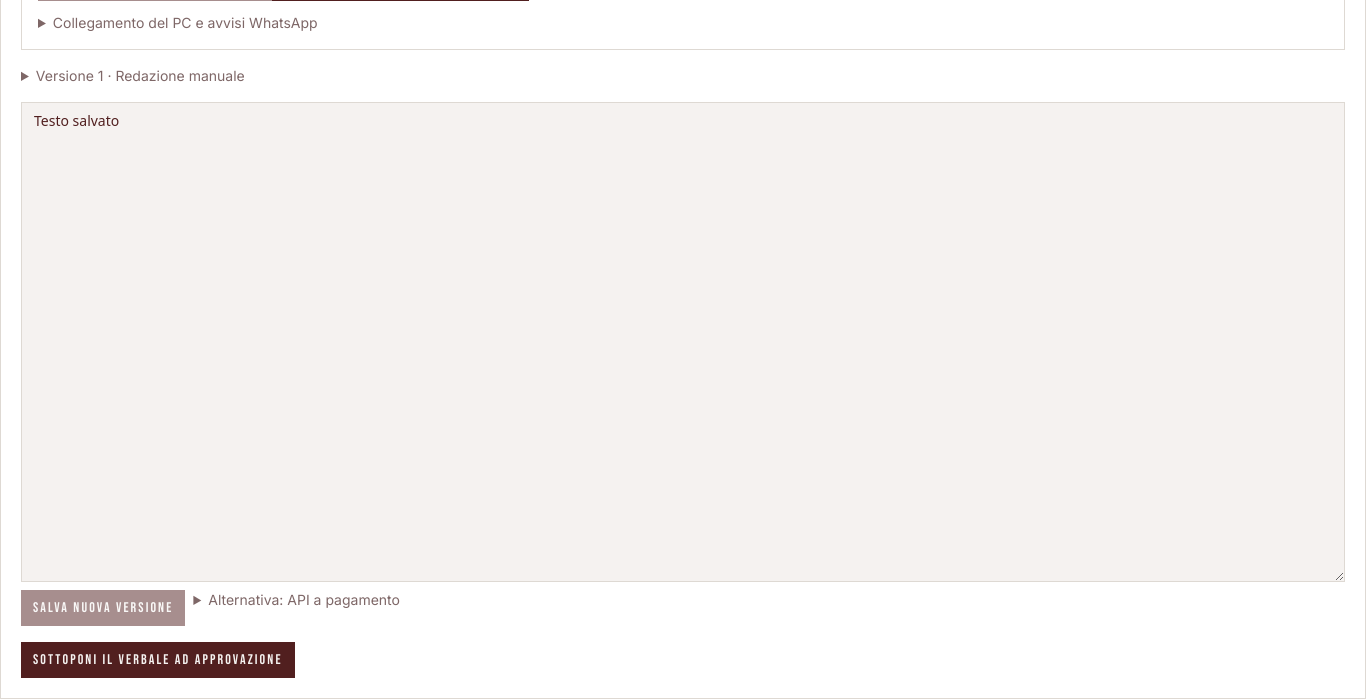
Scenario: Minutes approval before closing › requires saving the edited text before submitting it to a vote
Later steps or results of the test are not shown.
(page scrolled)
Replace the text in the text box named "Testo del verbale" with "Testo aggiornato" at (683, 342), box [21,102,1345,582]
(page scrolled)
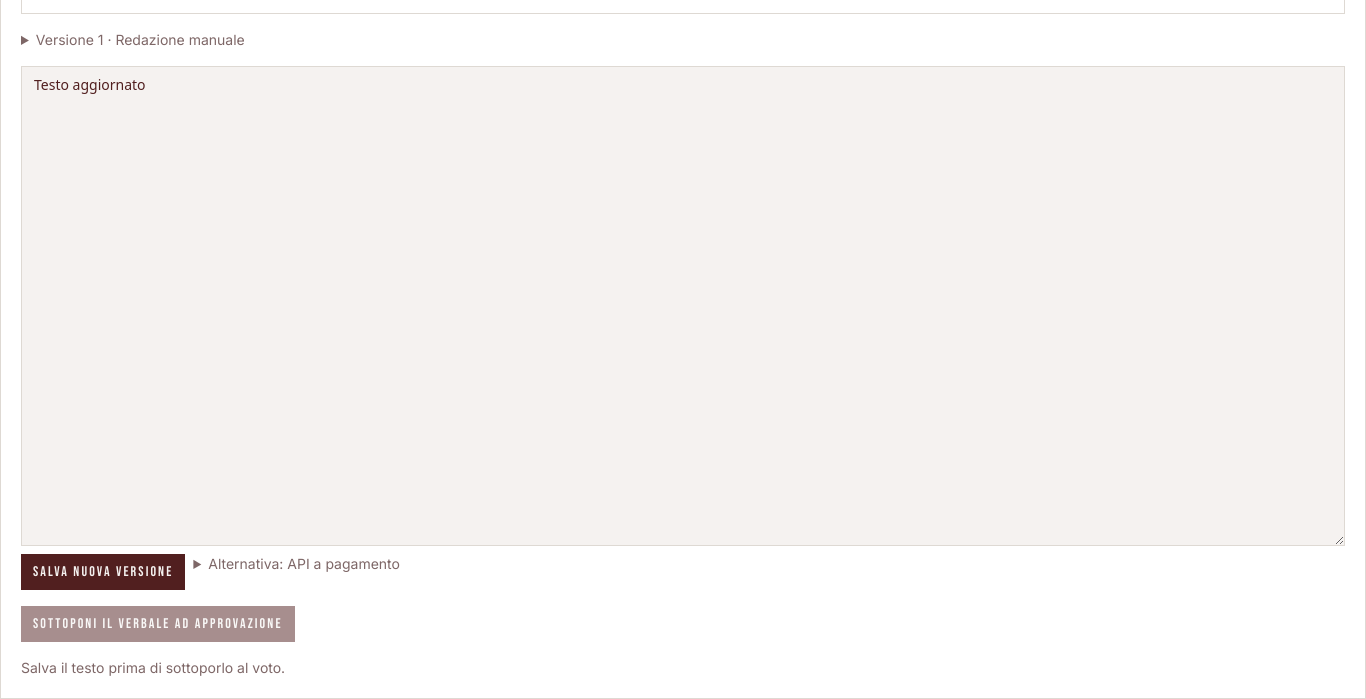
Check: the button "Sottoponi il verbale ad approvazione" is disabled, box [21,606,295,642]
Check: the text "Salva il testo prima di sottoporlo al voto." is shown, box [21,659,285,676]
Click the button "Salva nuova versione" at (103, 572), box [21,554,185,590]
(page scrolled)
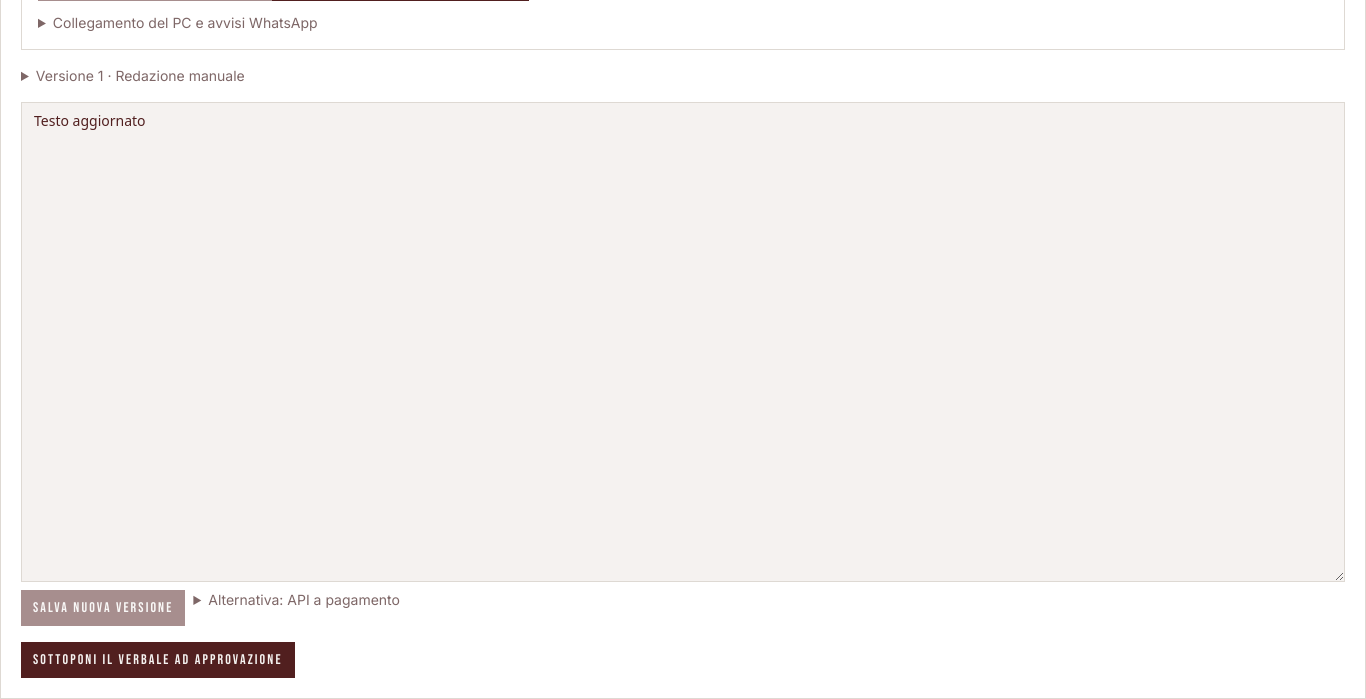
Check: the button "Sottoponi il verbale ad approvazione" is enabled, box [21,642,295,678]
